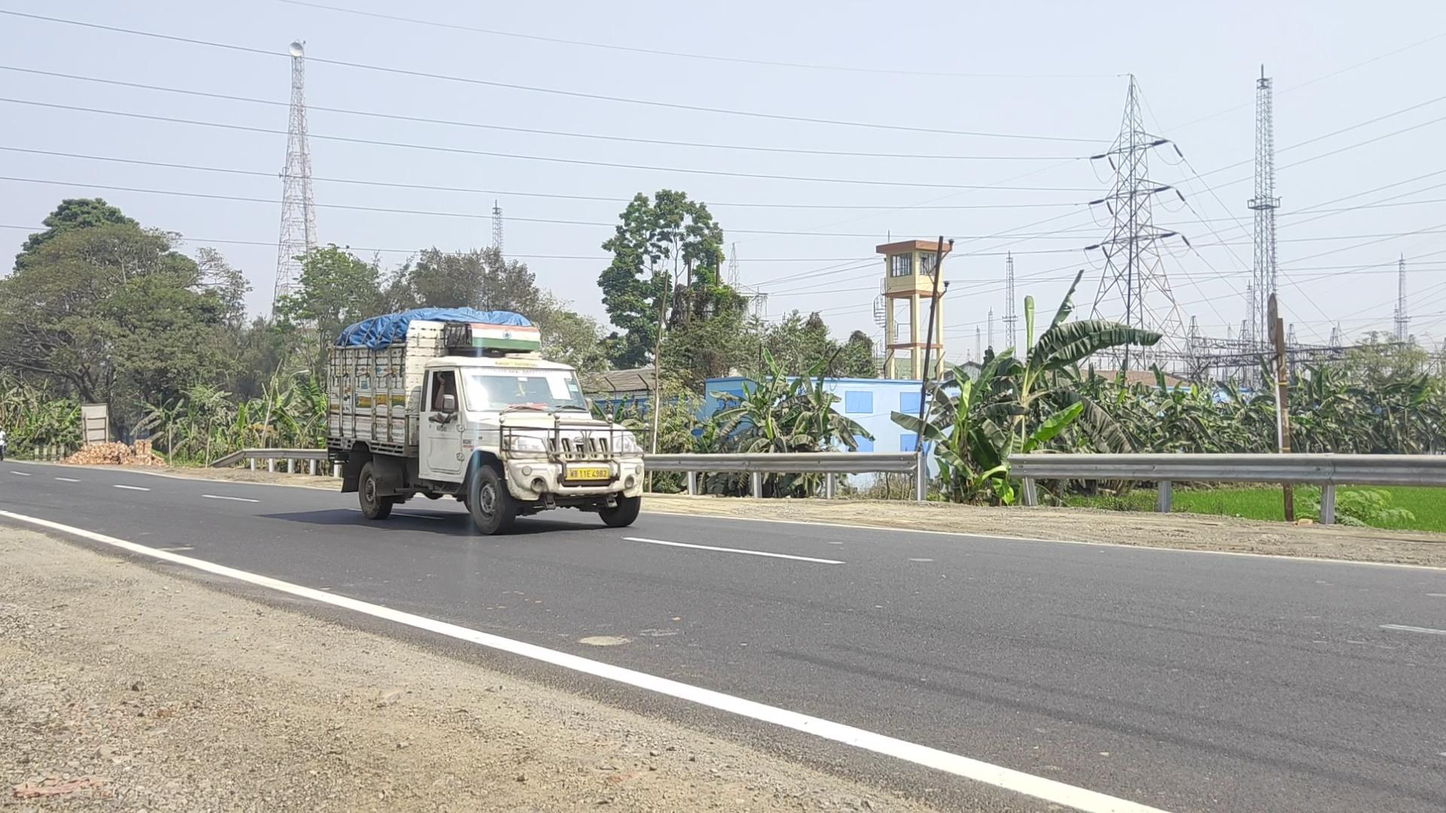van: (326, 306, 645, 535)
